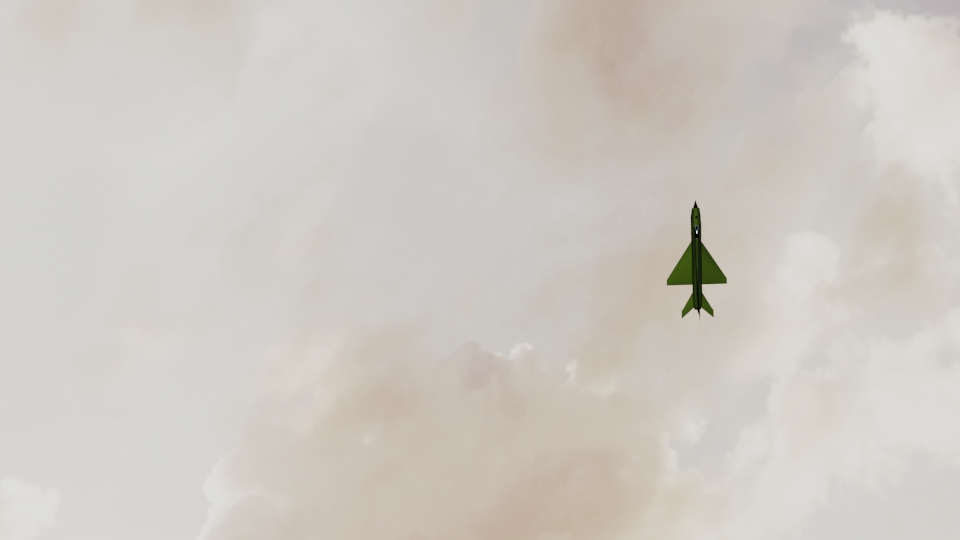plane: (666, 200, 728, 318)
